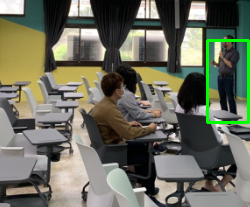person: (89, 66, 161, 135), (214, 30, 238, 117), (180, 73, 210, 111)
